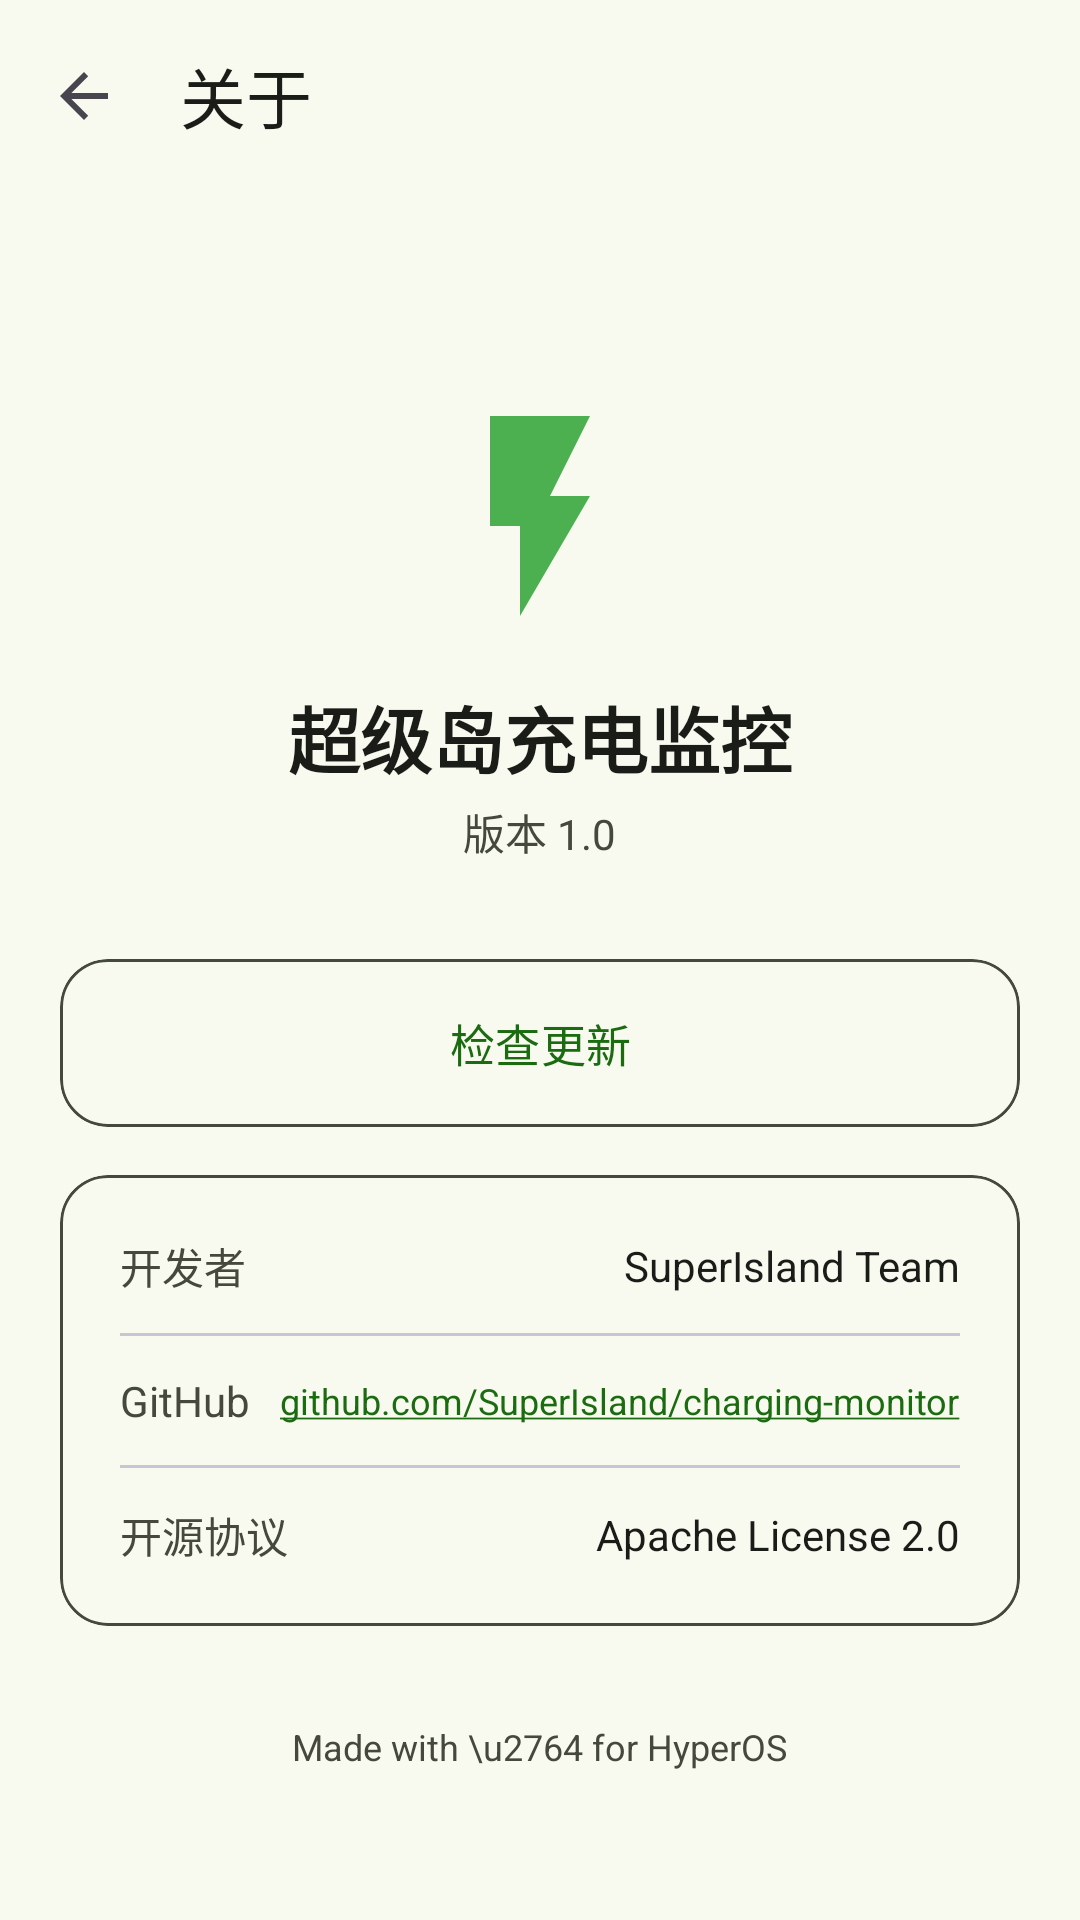

Where to tap for icons on this 1080×1920 app screen, as point (x, y):
应用图标: point (540, 516)
